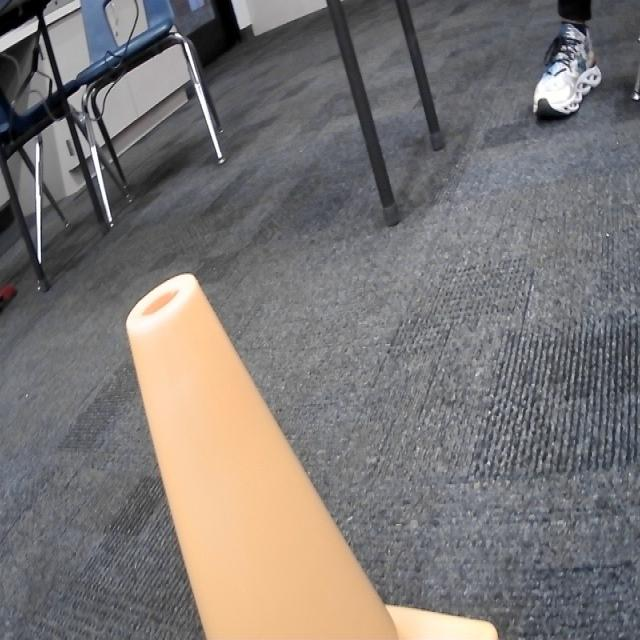cone: (122, 268, 500, 640)
